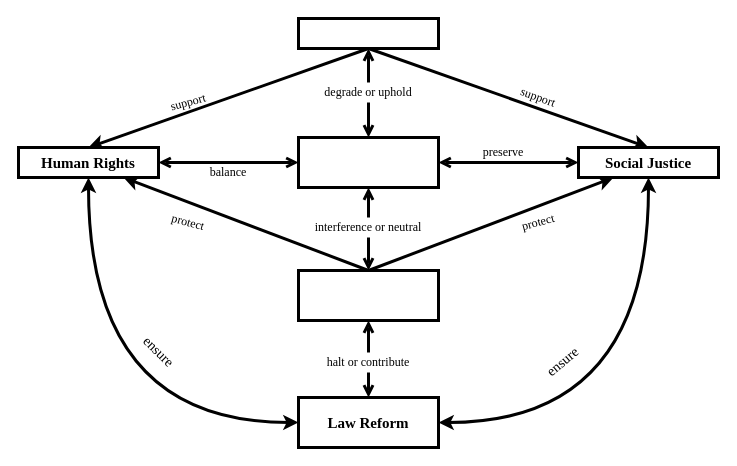
This 737x466 diagram has some shape labels left out. The box of each missing label's shape, as (x1, y1, x2, y2) in pixels:
Law Enforcement (Anti Blasphemy): (296, 136, 440, 188)
Separation of State - Religion: (296, 268, 440, 322)
The Rule of Law: (296, 16, 440, 50)
